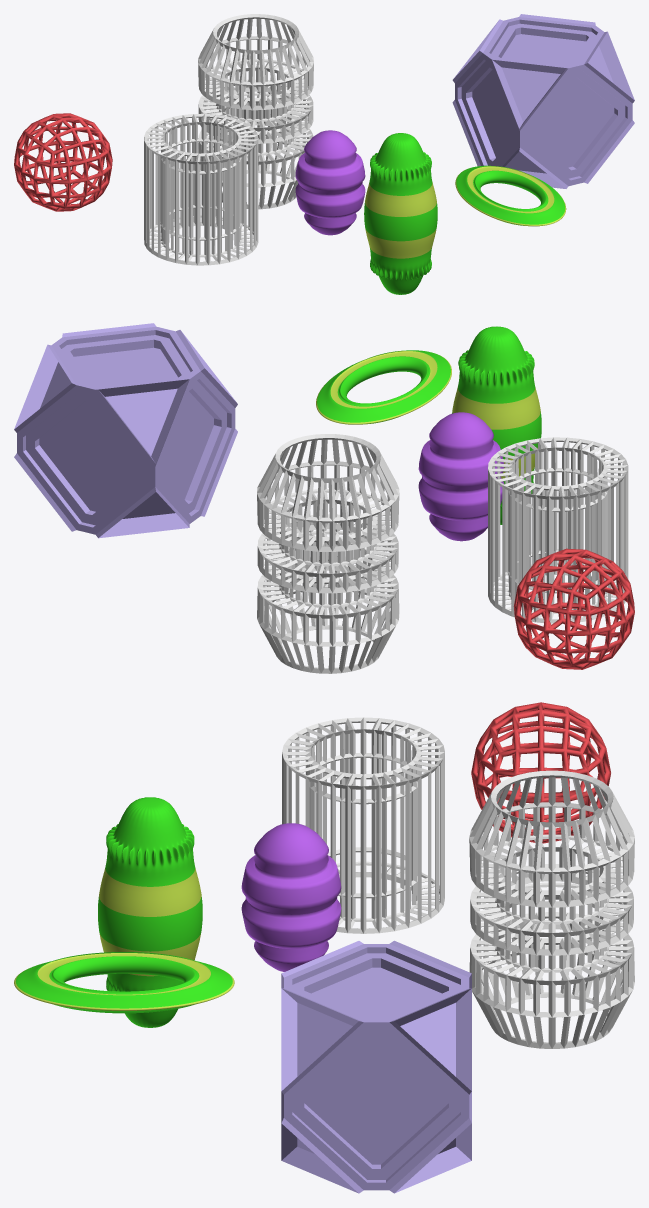
The picture shows the model from 3 angles, top to bottom: view 1: azimuth 30°, elevation 25°; view 2: azimuth 150°, elevation 25°; view 3: azimuth 270°, elevation 25°; orthographic projection. The views are drawn at different scales.
Visible parts, largest first — view 1: Cube.006, Cylinder.013, Cylinder.014, seed_01, Cube.005, energy, seed_02; view 2: Cube.006, Cylinder.014, Cylinder.013, Cube.005, seed_01, energy, seed_02; view 3: Cube.006, Cylinder.014, Cylinder.013, seed_01, energy, seed_02, Cube.005.
Boxes of the visible parts, box(x1,y1,x2,y2) form: Cube.006: box(452, 14, 634, 188); Cylinder.013: box(144, 113, 258, 265); Cylinder.014: box(198, 14, 313, 209); seed_01: box(364, 133, 437, 294); Cube.005: box(14, 113, 112, 211); energy: box(295, 130, 365, 235); seed_02: box(455, 165, 566, 226); Cube.006: box(14, 323, 237, 538); Cylinder.014: box(257, 434, 399, 673); Cylinder.013: box(488, 437, 628, 623); Cube.005: box(513, 548, 634, 669); seed_01: box(452, 326, 541, 524); energy: box(418, 412, 504, 541); seed_02: box(316, 350, 451, 424); Cube.006: box(281, 940, 471, 1193); Cylinder.014: box(469, 770, 634, 1048); Cylinder.013: box(282, 717, 444, 933); seed_01: box(98, 797, 202, 1027); energy: box(241, 823, 341, 971); seed_02: box(14, 952, 234, 1013); Cube.005: box(471, 702, 610, 843).
Bounding box in the file's own units: 1083 × 315 × 781.
